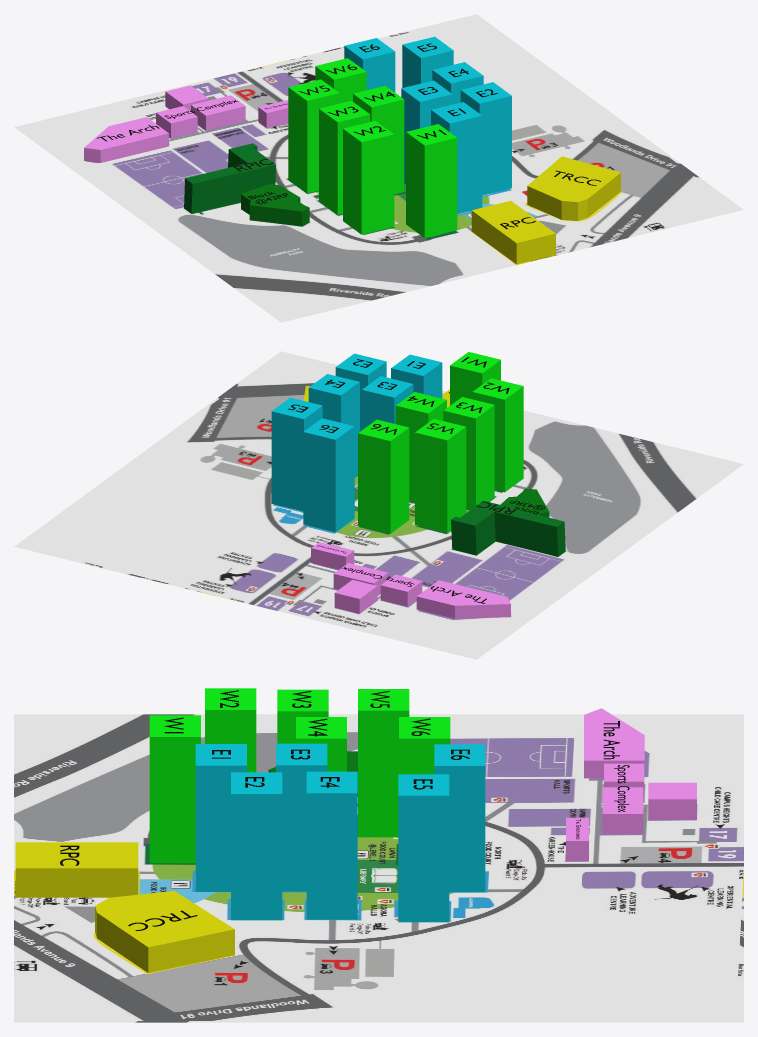
File: campusmap.glb
3 views of the same model, one above another, from view 1: azimuth 30°, elevation 25°; view 2: azimuth 150°, elevation 25°; view 3: azimuth 270°, elevation 25° (orthographic). The views are drawn at different scales.
Parts seen in each view (by area): view 1: Plane, W1, W2, Plane.004, W5, Plane.001, E2, Cube, E1, W3, Plane.003, W4 (+10 smaller); view 2: Plane, E6, W6, W5, Plane.001, E5, W2, W3, Plane.003, E4, W4, E3 (+8 smaller); view 3: Plane, Plane.004, E5, E4, E2, W1, Cube, W5, E6, E1, E3, W2 (+8 smaller).
Part boxes in pixels (x1,y1,x2,y2): Plane: (14, 14, 743, 322); W1: (406, 124, 457, 237); W2: (343, 120, 394, 234); Plane.004: (527, 156, 620, 220); W5: (288, 79, 339, 193); Plane.001: (184, 143, 275, 213); E2: (460, 82, 511, 195); Cube: (471, 201, 555, 264); E1: (431, 102, 482, 213); W3: (319, 100, 370, 214); Plane.003: (84, 117, 168, 162); W4: (353, 86, 404, 194); Plane: (14, 351, 743, 659); E6: (303, 418, 354, 532); W6: (358, 419, 409, 533); W5: (415, 419, 466, 532); Plane.001: (451, 500, 565, 556); E5: (271, 397, 322, 511); W2: (472, 378, 523, 492); W3: (443, 397, 494, 509); Plane.003: (416, 580, 510, 618); E4: (308, 374, 359, 477); W4: (395, 392, 446, 502); E3: (362, 376, 413, 429); Plane: (14, 714, 743, 1022); Plane.004: (95, 891, 234, 972); E5: (398, 774, 449, 922); E4: (306, 771, 357, 919); E2: (231, 772, 282, 920); W1: (149, 715, 200, 863); Cube: (15, 842, 138, 897); W5: (358, 689, 409, 837); E6: (434, 744, 485, 892); E1: (195, 744, 246, 891); E3: (276, 743, 327, 891); W2: (205, 688, 256, 772).
Bounding box in the file's own units: 26.23 × 5.09 × 26.23.
Materials: 23 (1 with a texture image).
